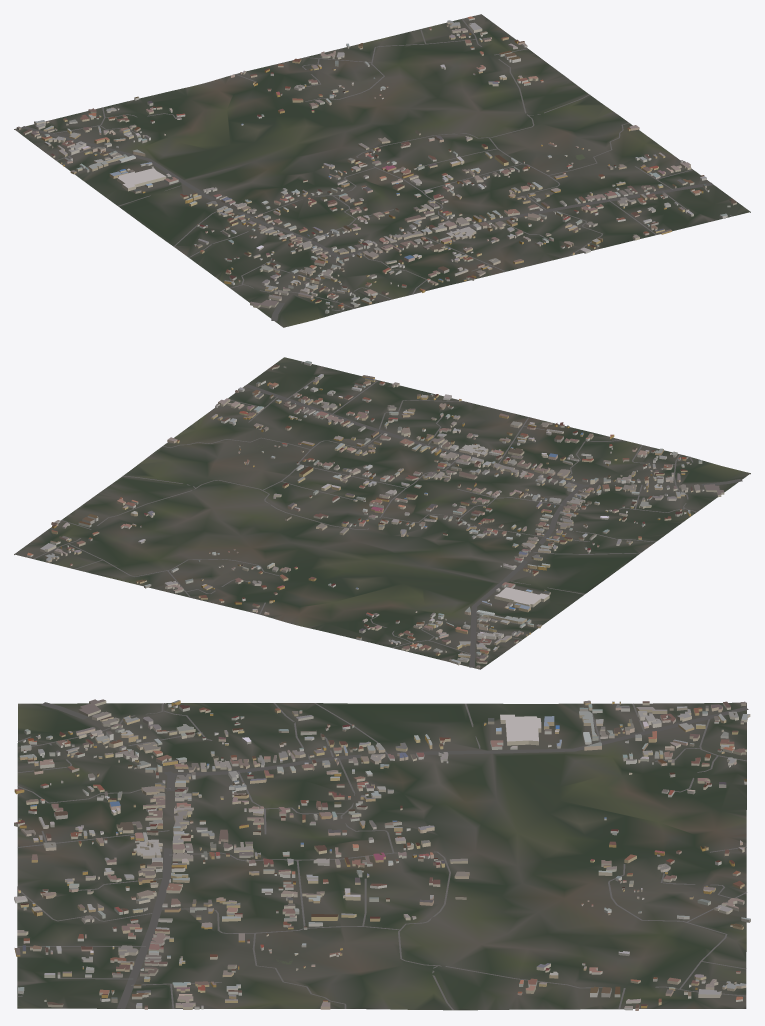
3 renders of one model, top to bottom at view 1: azimuth 30°, elevation 25°; view 2: azimuth 150°, elevation 25°; view 3: azimuth 270°, elevation 25°, orthographic. The views are drawn at different scales.
Visible parts, largest first — view 1: ground, buildings, roads; view 2: ground, buildings, roads; view 3: ground, buildings, roads.
Boxes of the visible parts, x1=… form: ground: x1=14, y1=14, x2=750, y2=327; buildings: x1=16, y1=16, x2=736, y2=313; roads: x1=21, y1=18, x2=732, y2=320; ground: x1=14, y1=357, x2=750, y2=669; buildings: x1=27, y1=361, x2=724, y2=668; roads: x1=33, y1=361, x2=742, y2=667; ground: x1=17, y1=702, x2=746, y2=1010; buildings: x1=14, y1=699, x2=750, y2=1010; roads: x1=17, y1=702, x2=748, y2=1010.
Bounding box in the file's own units: 1415 × 20.48 × 1416.
